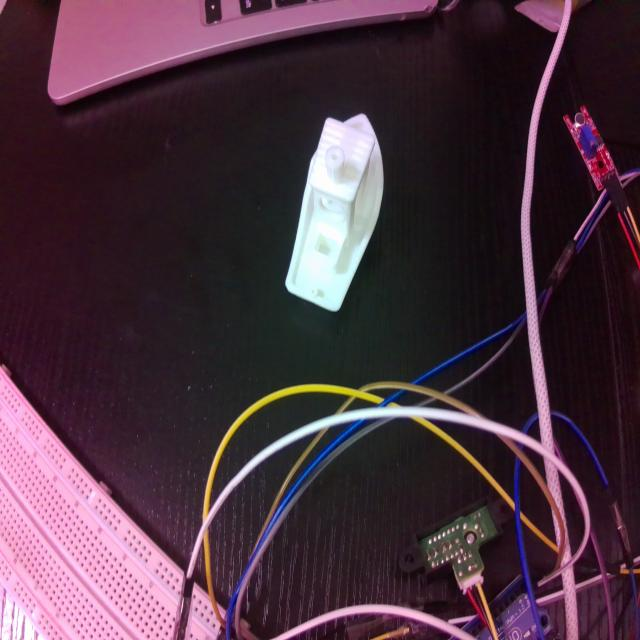ship: (285, 112, 385, 310)
